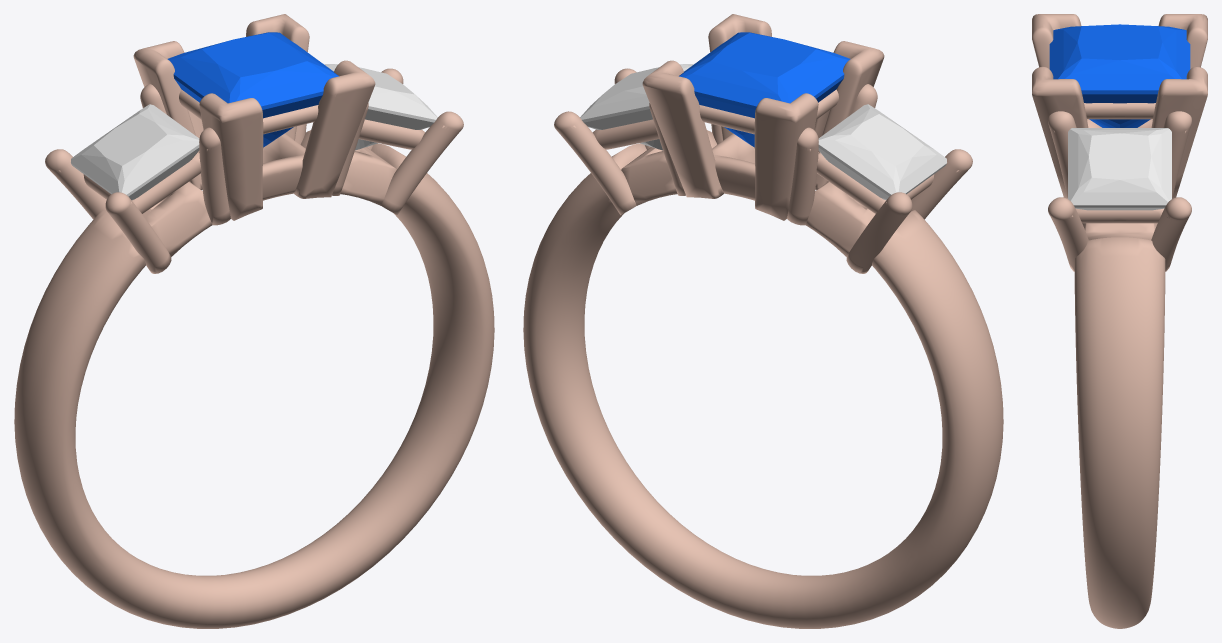
Rendered from bluesapphire-princess-rosegold-protectededges4prongs-taperedband-3stone.glb.
The picture shows the model from 3 angles, left to right: view 1: azimuth 30°, elevation 25°; view 2: azimuth 150°, elevation 25°; view 3: azimuth 270°, elevation 25°; orthographic projection.
Visible parts, largest first — view 1: metal, stone, side.001, side; view 2: metal, stone, side.001, side; view 3: metal, stone, side.
Boxes of the visible parts, left/top/right/bottom form: metal: left=14, top=14, right=494, bottom=628; stone: left=167, top=32, right=338, bottom=147; side.001: left=71, top=104, right=199, bottom=200; side: left=324, top=64, right=437, bottom=150; metal: left=523, top=14, right=1003, bottom=628; stone: left=679, top=32, right=850, bottom=147; side.001: left=818, top=104, right=946, bottom=200; side: left=580, top=64, right=693, bottom=150; metal: left=1032, top=14, right=1207, bottom=628; stone: left=1049, top=24, right=1190, bottom=127; side: left=1068, top=128, right=1171, bottom=210.
Bounding box in the file's own units: 20.5 × 23.84 × 6.77.
